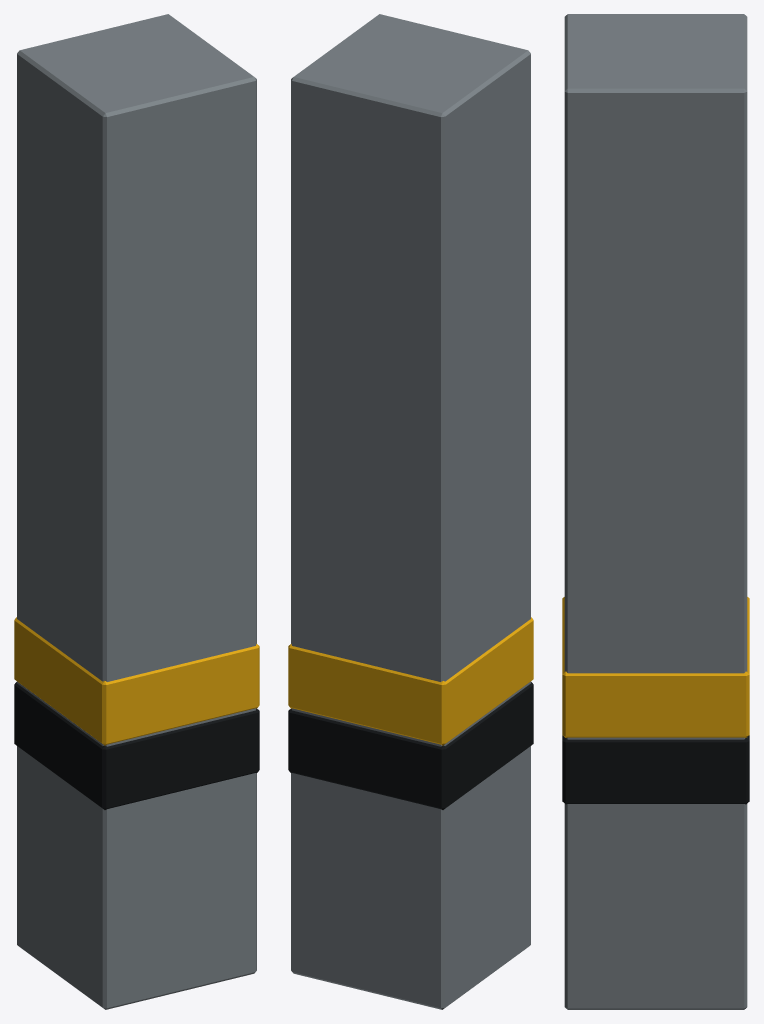
File: ParkingColumn.fbx
3 views of the same model, side by side, from view 1: azimuth 30°, elevation 25°; view 2: azimuth 150°, elevation 25°; view 3: azimuth 270°, elevation 25° (orthographic). The views are drawn at different scales.
Visible parts, largest first — view 1: ParkingColumn; view 2: ParkingColumn; view 3: ParkingColumn.
Boxes of the visible parts, x1,y1,x2,y2 form: ParkingColumn: (14,14,259,1009); ParkingColumn: (288,14,533,1009); ParkingColumn: (562,14,749,1009).
Size of the model in its own units: 46 by 250 by 46.
Materials: 1 (1 with a texture image).
